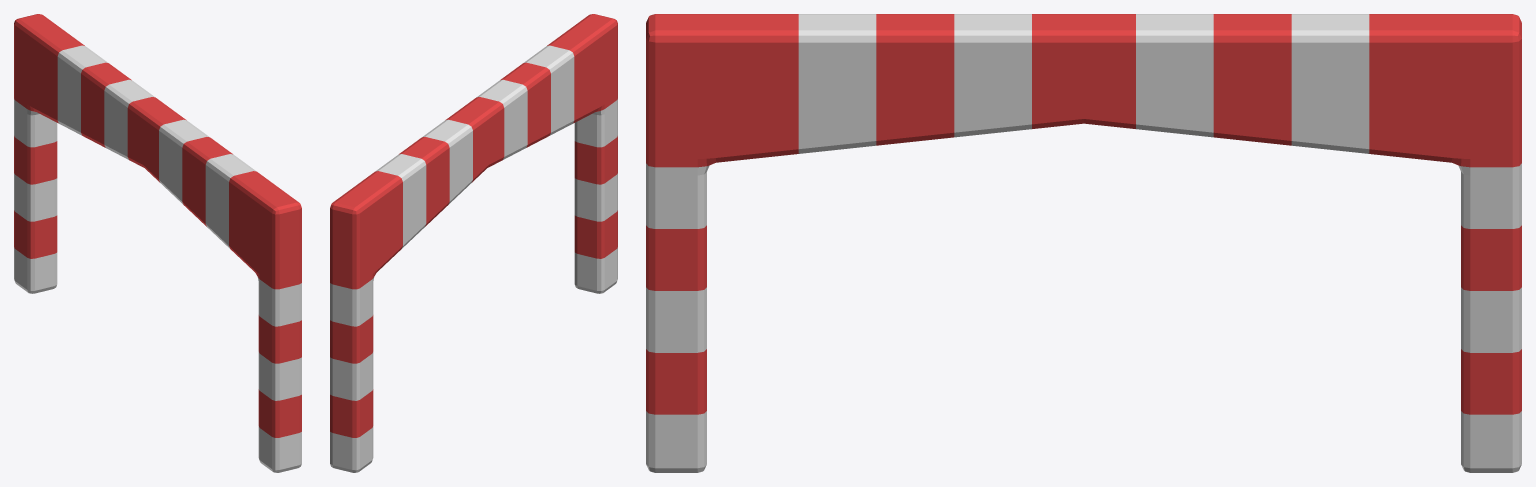
Rendered from finish.fbx.
3 renders of one model, left to right at view 1: azimuth 30°, elevation 25°; view 2: azimuth 150°, elevation 25°; view 3: azimuth 270°, elevation 25°, orthographic. The views are drawn at different scales.
Parts seen in each view (by area): view 1: Cube; view 2: Cube; view 3: Cube.
Part boxes in pixels (x1,y1,x2,y2): Cube: (14, 14, 301, 472); Cube: (330, 14, 617, 472); Cube: (646, 14, 1521, 472).
Bounding box in the file's own units: 92.66 × 803 × 1441.
